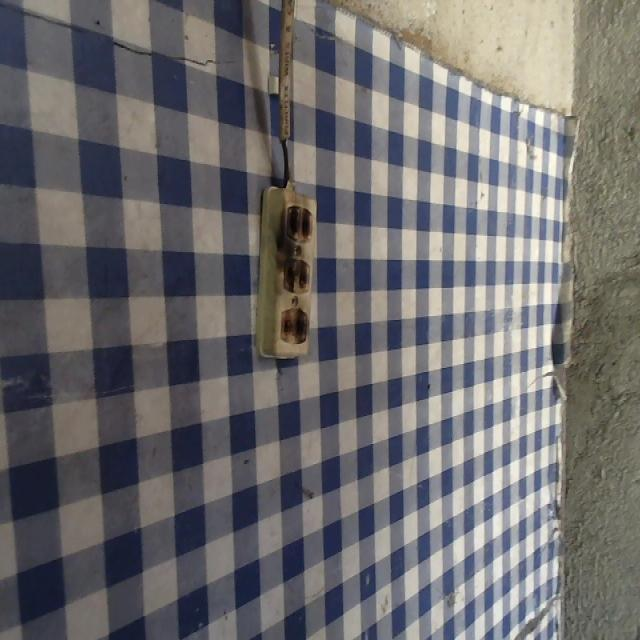-: (280, 198, 317, 246), (271, 308, 317, 345), (276, 256, 317, 297)
